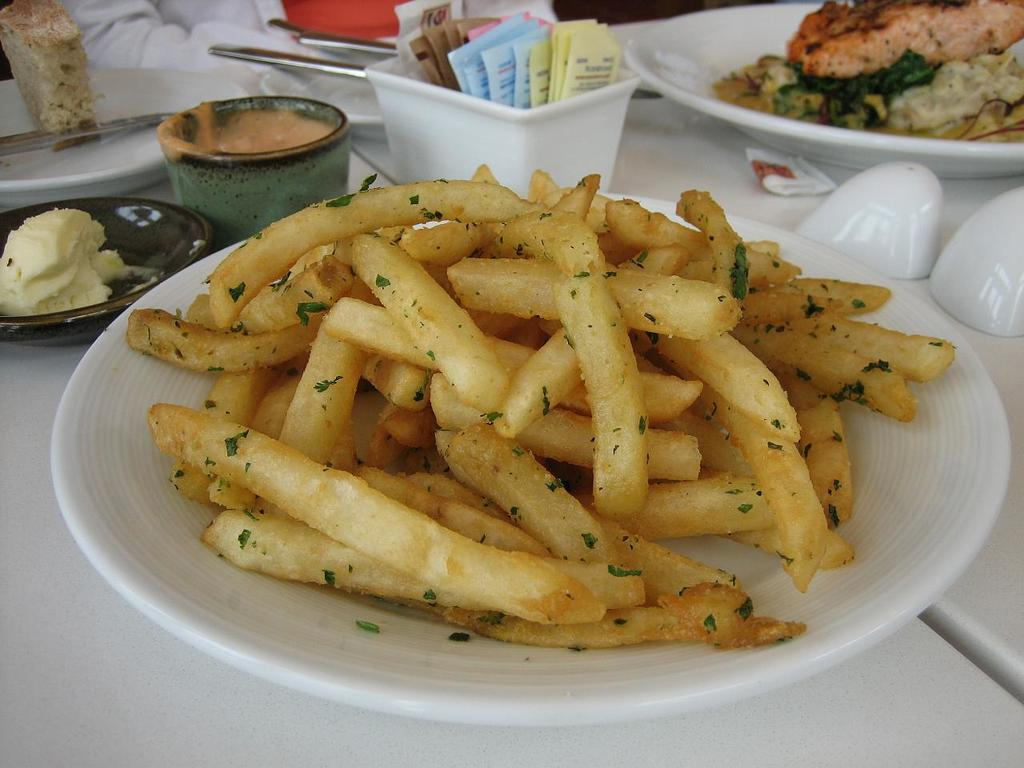French fries: (138, 141, 865, 671)
